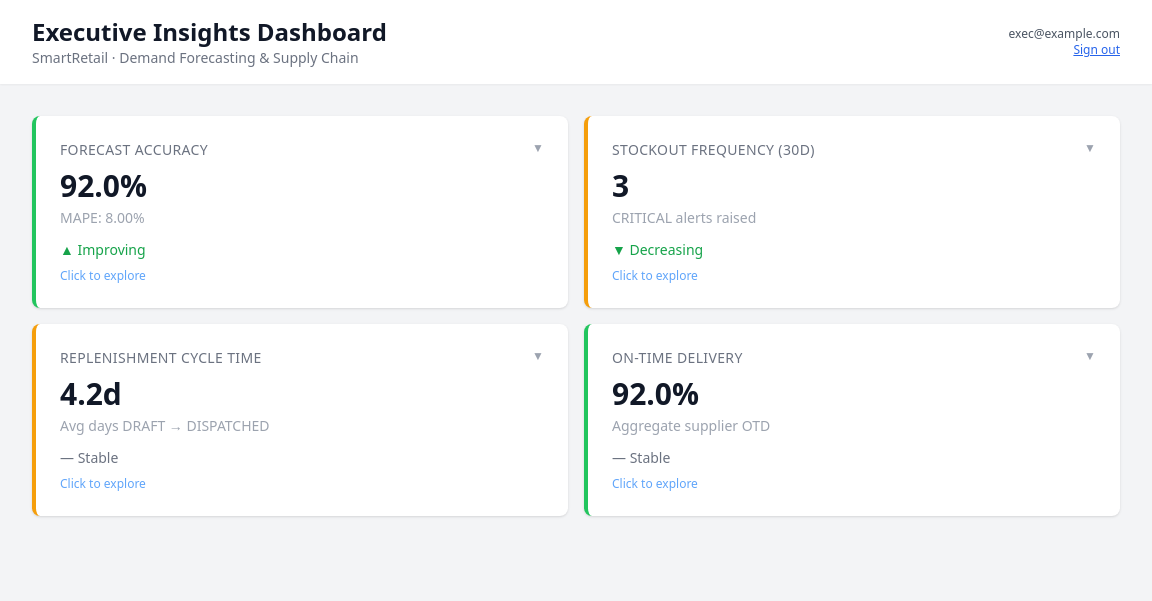
ExecutiveDashboard › expands cycle time detail panel when Cycle Time card is clicked
Click the button "Replenishment Cycle Time": x=161, y=358 [32, 324, 568, 516]
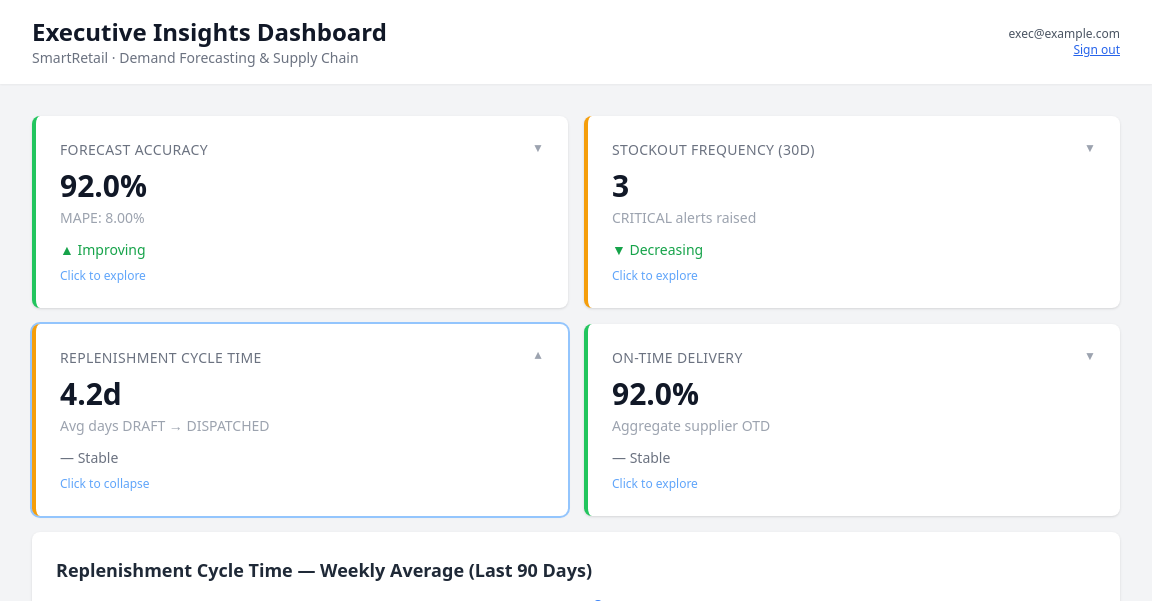
expect the heading "Replenishment Cycle Time — Weekly Average (Last 90 Days)" is shown: met, box [56, 558, 592, 582]
